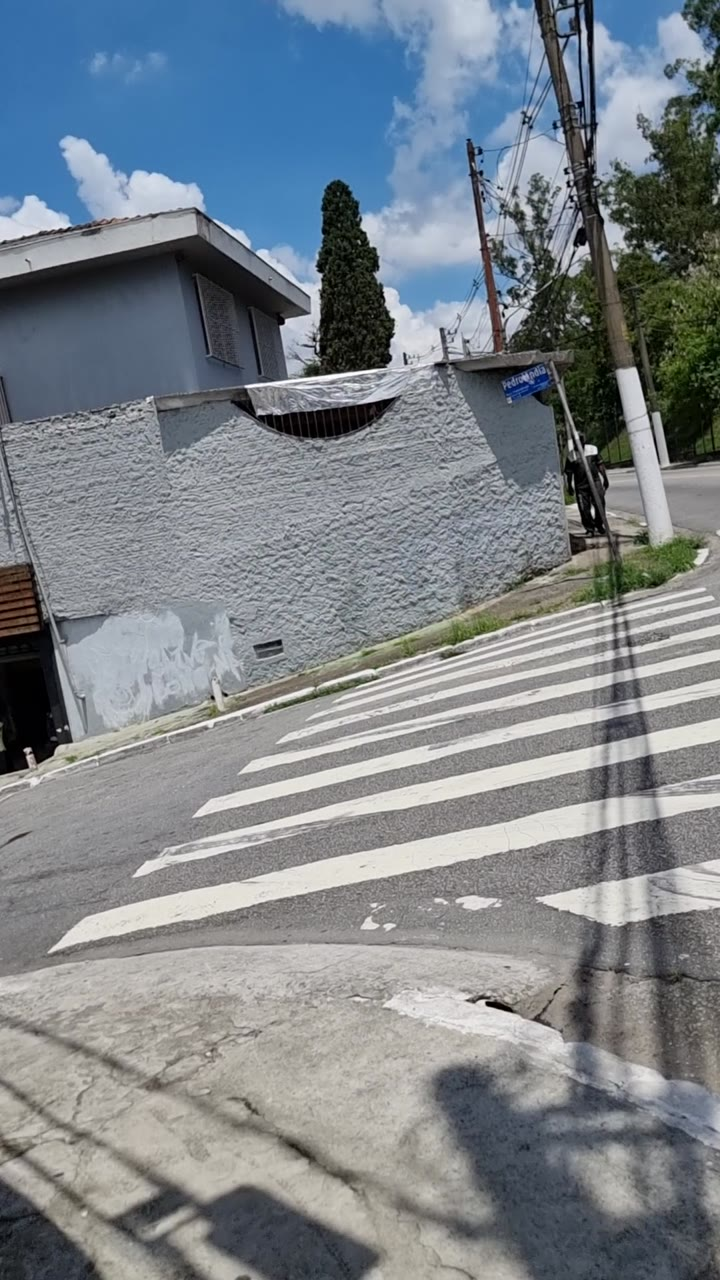desnivel: (0, 896, 720, 1024)
obstaculo: (521, 0, 673, 545)
